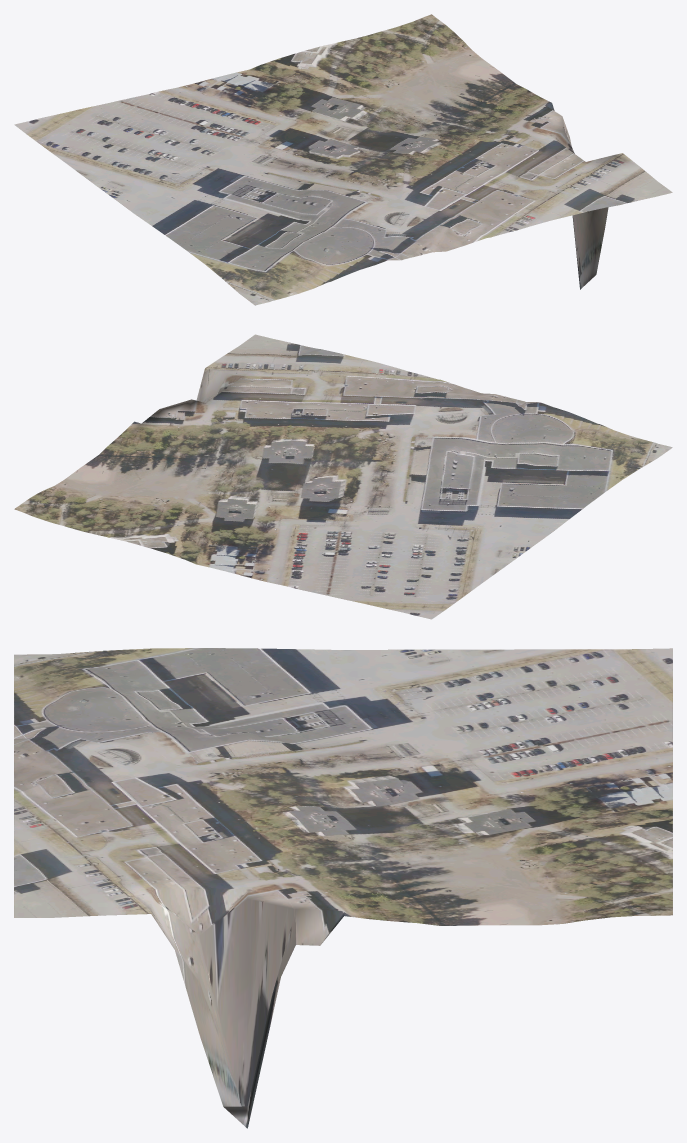
File: CM_Terrain_24492097_6815903.fbx
3 renders of one model, top to bottom at view 1: azimuth 30°, elevation 25°; view 2: azimuth 150°, elevation 25°; view 3: azimuth 270°, elevation 25°, orthographic. The views are drawn at different scales.
Parts seen in each view (by area): view 1: CM_Terrain_24492097_6815903_LOD0; view 2: CM_Terrain_24492097_6815903_LOD0; view 3: CM_Terrain_24492097_6815903_LOD0.
Part boxes in pixels (bbox=[...]): CM_Terrain_24492097_6815903_LOD0: bbox=[14, 14, 672, 305]; CM_Terrain_24492097_6815903_LOD0: bbox=[14, 334, 672, 619]; CM_Terrain_24492097_6815903_LOD0: bbox=[14, 648, 672, 1128].
Size of what is drawn, in the model's own units: 205 by 76.01 by 205.
